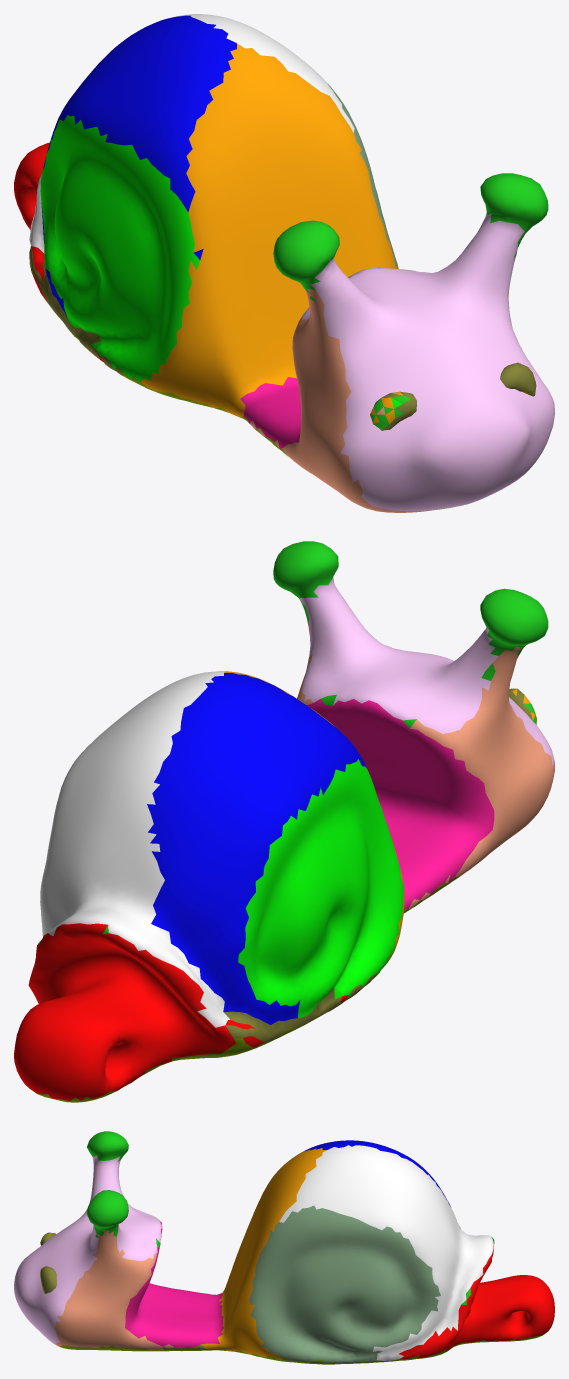
The model's file is model_31_segmented_new.obj.
The picture shows the model from 3 angles, top to bottom: view 1: azimuth 30°, elevation 25°; view 2: azimuth 150°, elevation 25°; view 3: azimuth 270°, elevation 25°; orthographic projection. The views are drawn at different scales.
Bounding box in the file's own units: 19.93 × 21.89 × 57.06.
